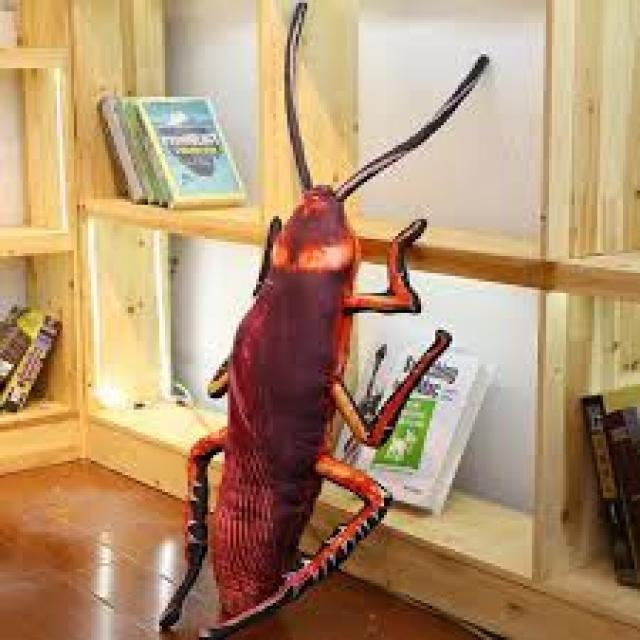Cockroach: (147, 0, 481, 640)
